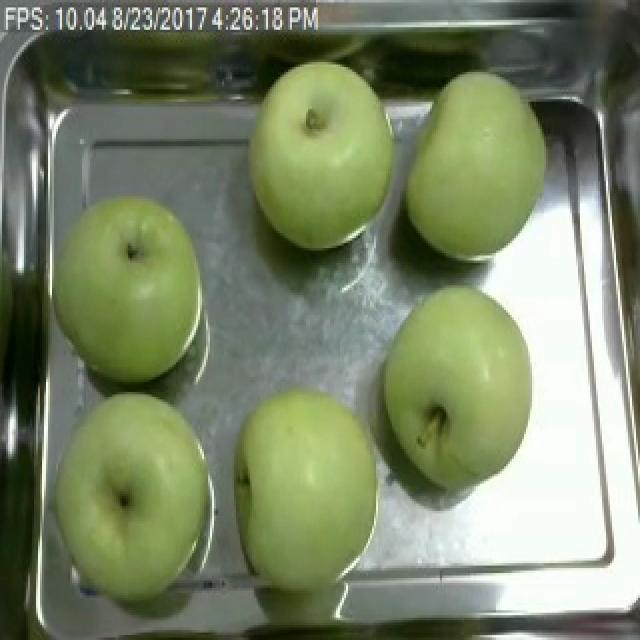50-_ripeness: (56, 378, 212, 612), (379, 274, 538, 500), (51, 164, 209, 388), (249, 45, 403, 270), (226, 387, 382, 596), (403, 62, 559, 259)
